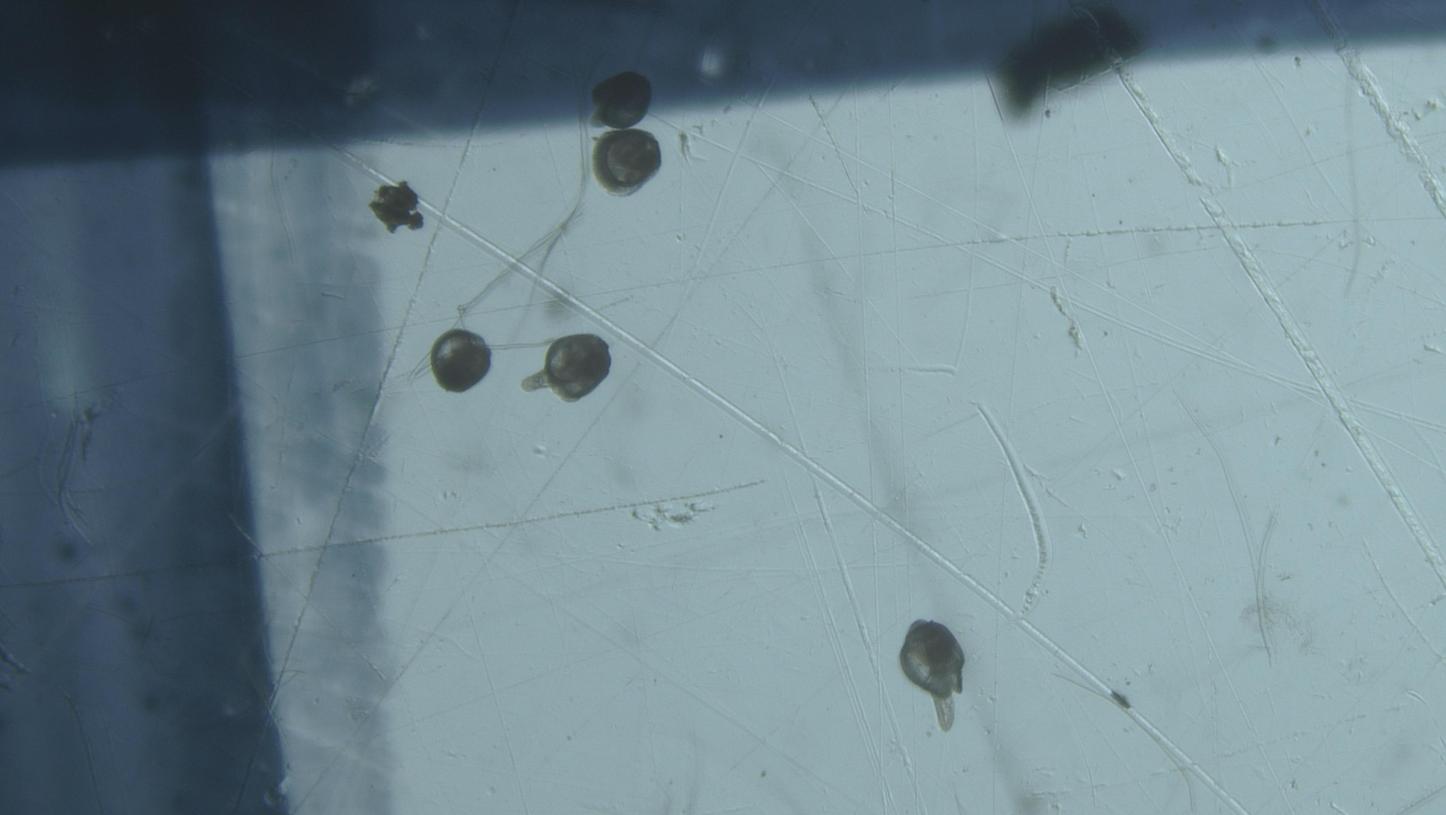live: (900, 620, 965, 732), (522, 334, 611, 403), (591, 129, 661, 196), (429, 329, 492, 393), (591, 71, 652, 129)
